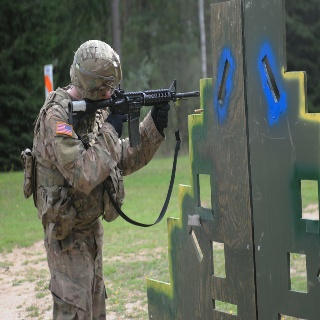rifle: (66, 78, 201, 146)
